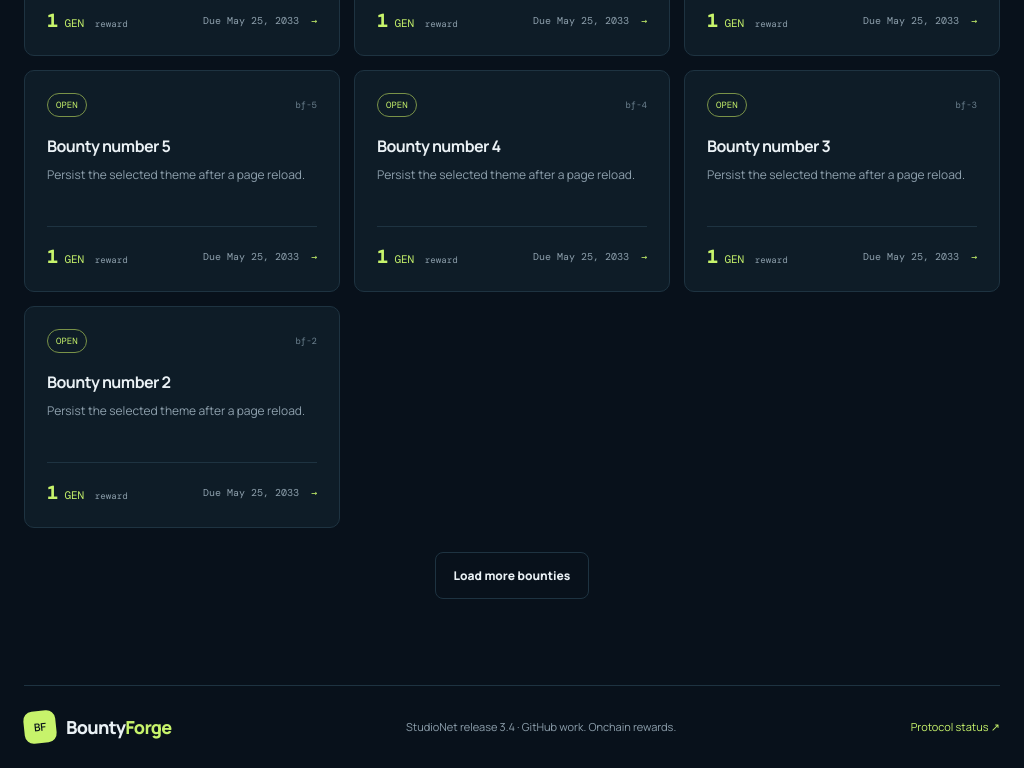
Test: discovery and wallet state › restarts shifted pagination when another bounty arrives
(page scrolled)
Step 1. Click the button "Load more bounties" → (512, 575), box [435,552,590,599]
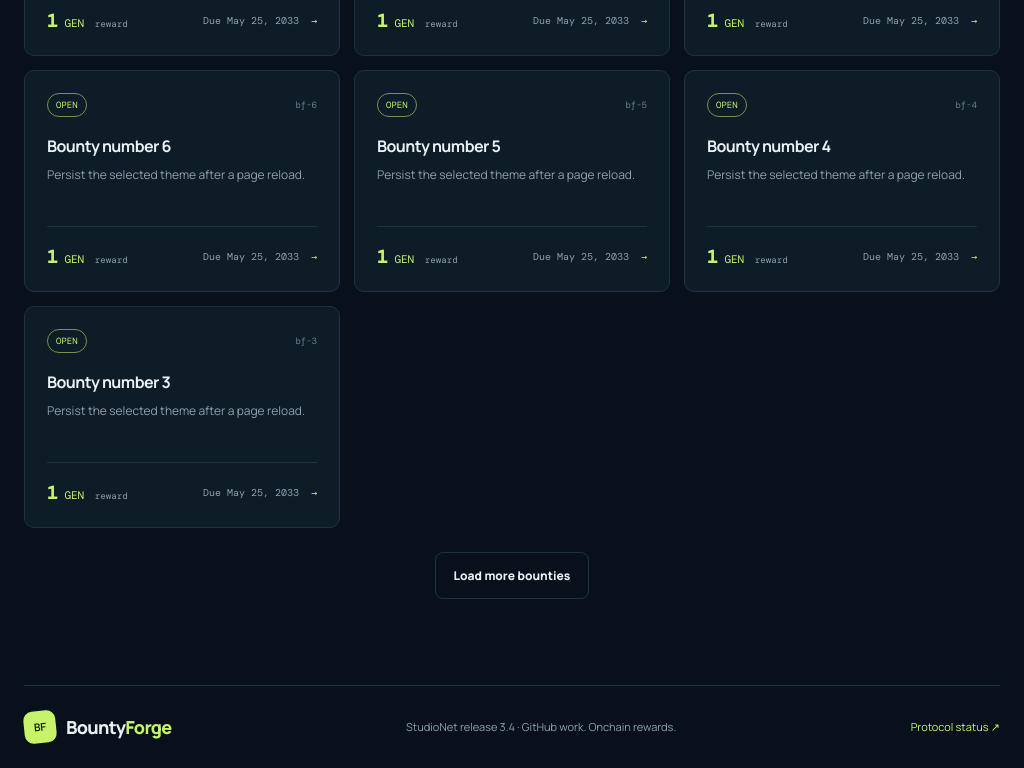
Step 2. Click the button "Load more bounties" → (512, 575), box [435,552,590,599]
(page scrolled)
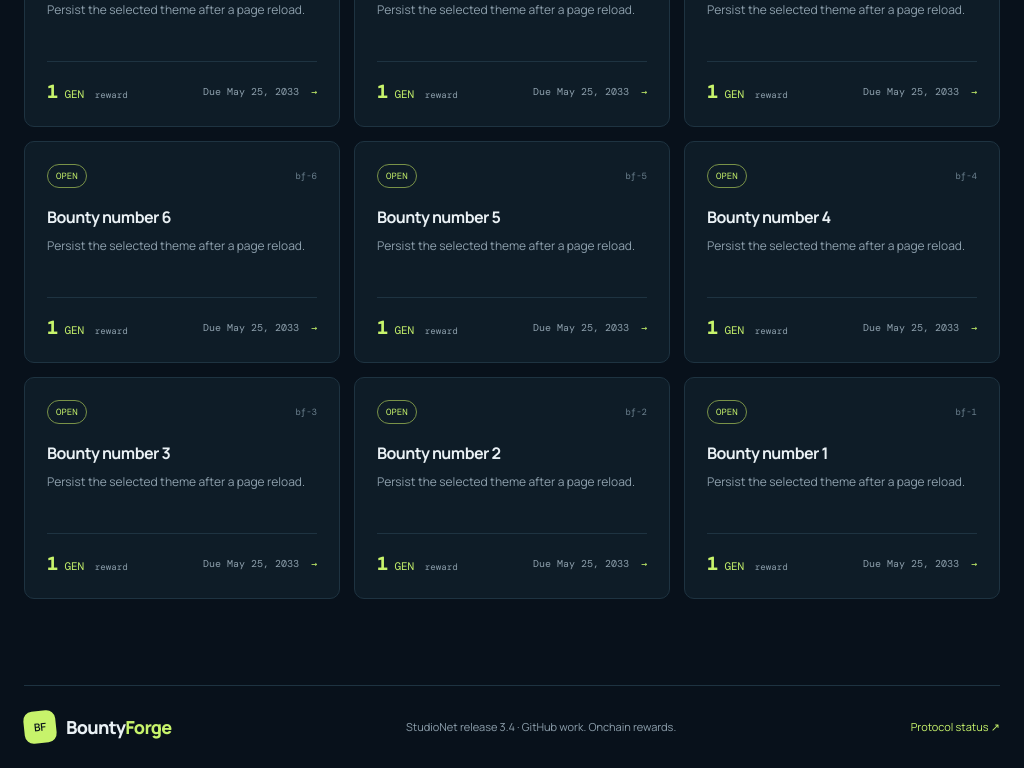
Check: the button "Load more bounties" is gone
